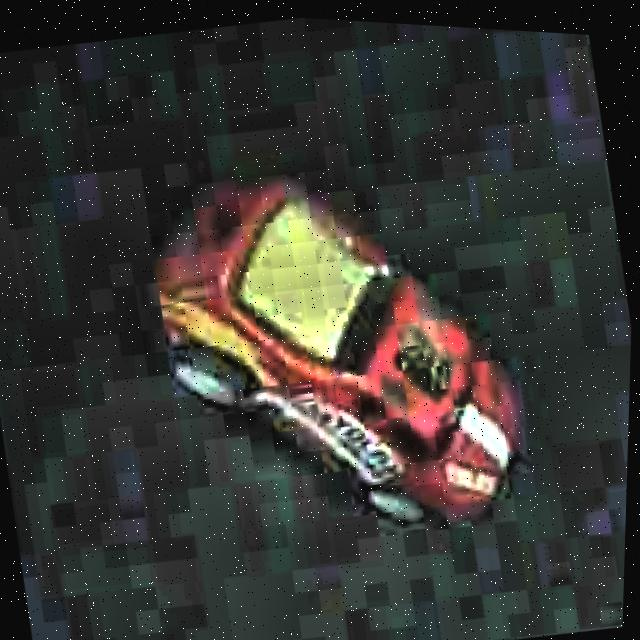car: (108, 114, 571, 585)
